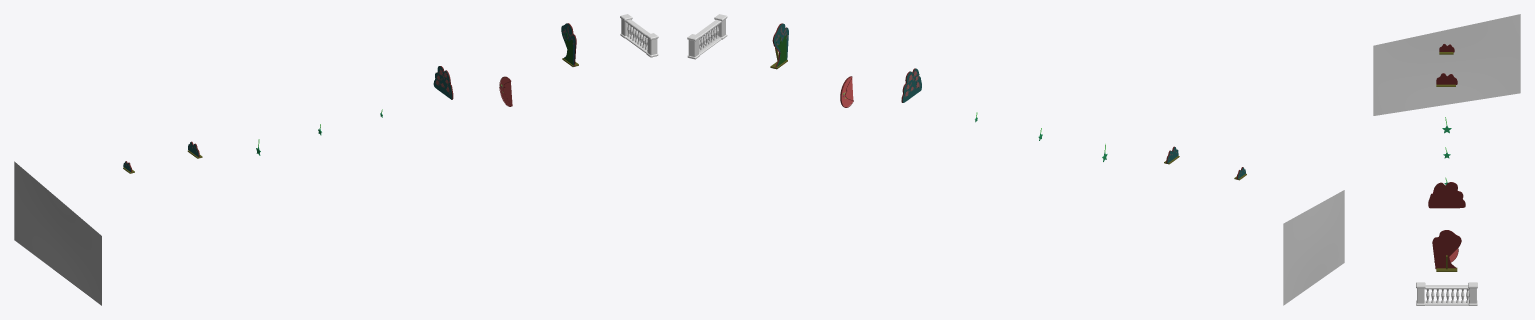
The model's file is 02_Scenery_high.fbx.
3 renders of one model, left to right at view 1: azimuth 30°, elevation 25°; view 2: azimuth 150°, elevation 25°; view 3: azimuth 270°, elevation 25°, orthographic. The views are drawn at different scales.
Parts seen in each view (by area): view 1: CastleCanvas_high, StoneBalustrade_high, ScenicTree_high; view 2: CastleCanvas_high, StoneBalustrade_high, ScenicTree_high, RoseWagonScenery_high; view 3: CastleCanvas_high, StoneBalustrade_high, ScenicTree_high, RoseWagonScenery_high, MeadowShrub_high, LowMeadowShrub_high.
Part boxes in pixels (x1=…): CastleCanvas_high: x1=14, y1=161, x2=101, y2=305; StoneBalustrade_high: x1=620, y1=14, x2=658, y2=57; ScenicTree_high: x1=561, y1=23, x2=578, y2=66; CastleCanvas_high: x1=1283, y1=190, x2=1344, y2=305; StoneBalustrade_high: x1=687, y1=14, x2=727, y2=59; ScenicTree_high: x1=770, y1=23, x2=788, y2=69; RoseWagonScenery_high: x1=901, y1=68, x2=921, y2=102; CastleCanvas_high: x1=1373, y1=14, x2=1520, y2=115; StoneBalustrade_high: x1=1416, y1=282, x2=1477, y2=305; ScenicTree_high: x1=1432, y1=230, x2=1461, y2=271; RoseWagonScenery_high: x1=1428, y1=182, x2=1465, y2=208; MeadowShrub_high: x1=1436, y1=73, x2=1457, y2=86; LowMeadowShrub_high: x1=1439, y1=44, x2=1454, y2=54.
Size of the model in its own units: 3312 by 709 by 708.
